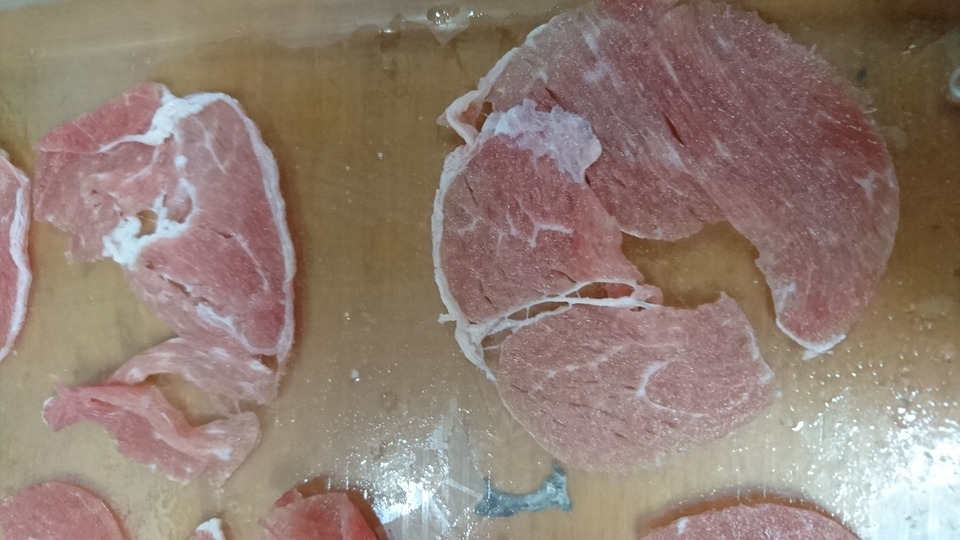restructured meat: (423, 9, 912, 453), (40, 108, 295, 482), (1, 487, 115, 539), (248, 496, 370, 540)
